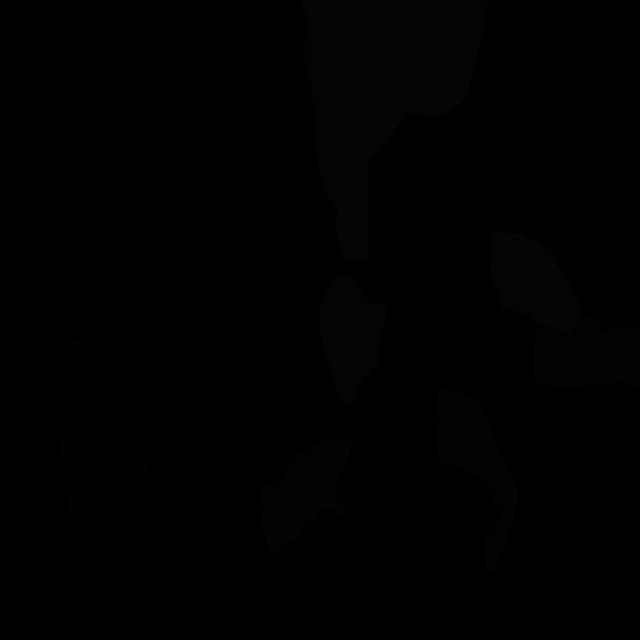cardboard: (434, 387, 520, 572), (259, 439, 352, 554), (532, 314, 640, 391)
rigid_plastic: (51, 330, 150, 567)
soft_plastic: (301, 0, 488, 260), (488, 230, 584, 335), (318, 275, 388, 407)
